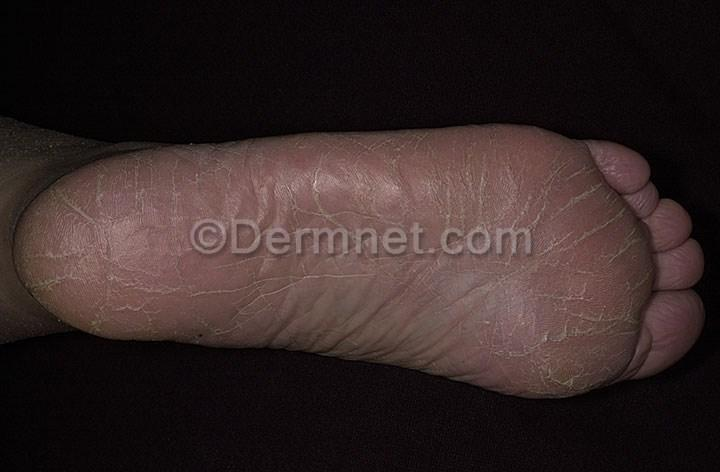liquenificacion 2: (19, 129, 654, 381)
xerosis 3: (16, 127, 659, 398)
